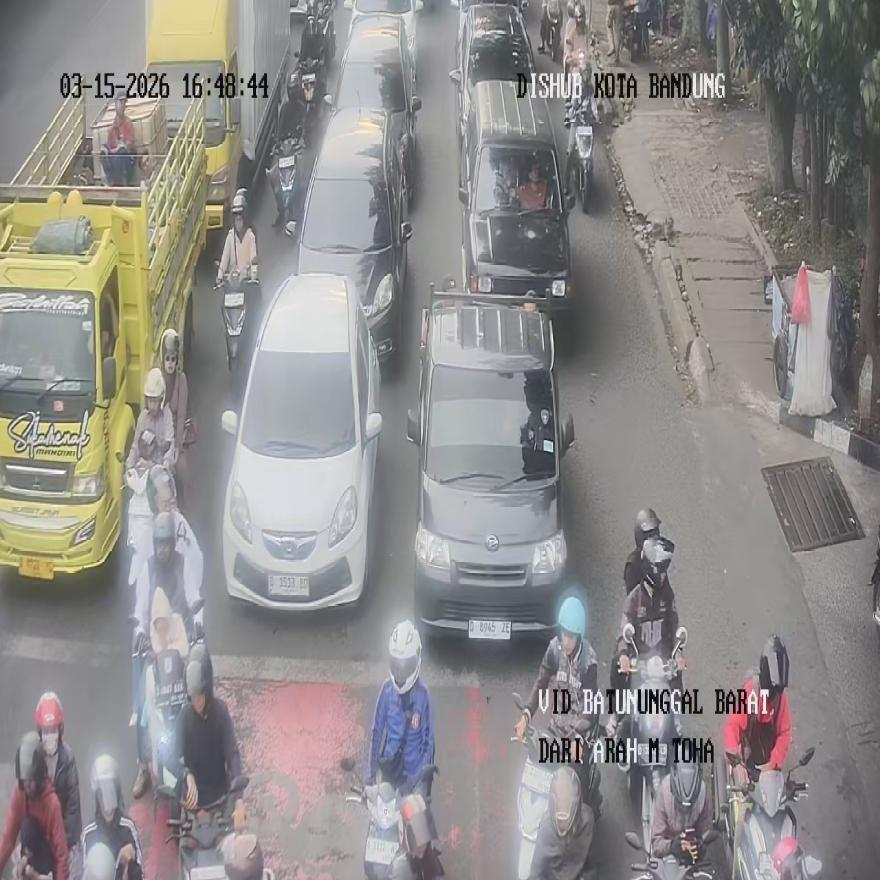Mobil: (407, 279, 573, 639), (221, 272, 382, 608), (457, 80, 575, 316)
Motor: (625, 827, 722, 879)
Truk berat: (0, 95, 207, 577), (140, 0, 291, 244)
